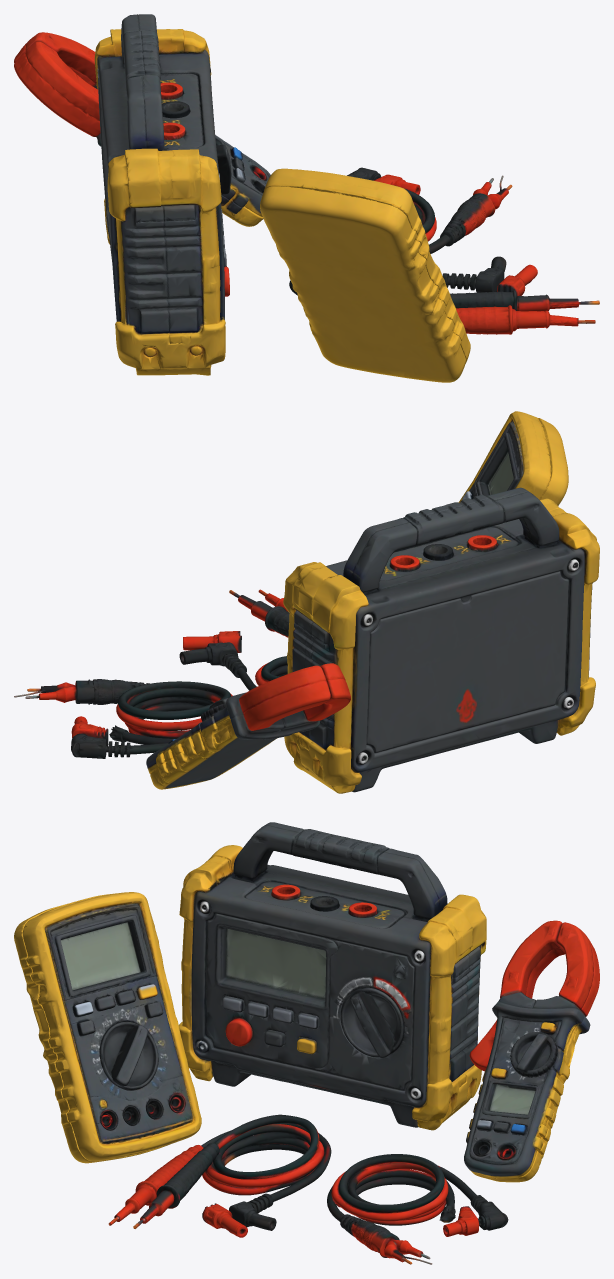
Rendered from tester.glb.
3 views of the same model, one above another, from view 1: azimuth 30°, elevation 25°; view 2: azimuth 150°, elevation 25°; view 3: azimuth 270°, elevation 25° (orthographic). The views are drawn at different scales.
Visible parts, largest first — view 1: tripo_node_69c19d79-c0d0-4a59-b278-afe9b131b5bf; view 2: tripo_node_69c19d79-c0d0-4a59-b278-afe9b131b5bf; view 3: tripo_node_69c19d79-c0d0-4a59-b278-afe9b131b5bf.
Part boxes in pixels (left/top/right/bottom): tripo_node_69c19d79-c0d0-4a59-b278-afe9b131b5bf: left=14, top=14, right=599, bottom=382; tripo_node_69c19d79-c0d0-4a59-b278-afe9b131b5bf: left=14, top=411, right=599, bottom=793; tripo_node_69c19d79-c0d0-4a59-b278-afe9b131b5bf: left=14, top=822, right=599, bottom=1264.
Size of the model in its own units: 30231 by 15848 by 33169.
Materials: 1 (1 with a texture image).
